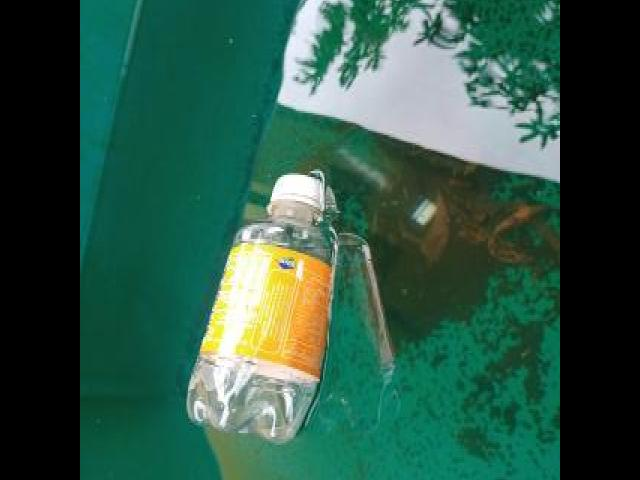Bottle: (182, 173, 344, 445)
